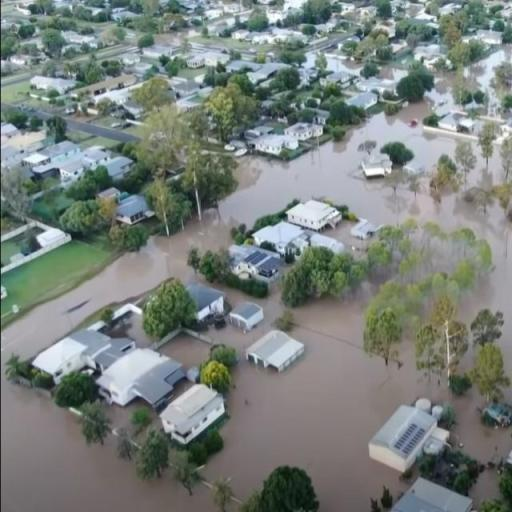flood: (2, 104, 512, 377), (202, 285, 512, 512), (2, 381, 215, 512), (465, 44, 512, 90), (357, 64, 409, 92), (472, 472, 500, 505), (327, 56, 360, 76), (436, 72, 454, 93), (305, 53, 313, 67)
house: (366, 395, 450, 474), (98, 346, 187, 412), (160, 381, 224, 447), (388, 471, 474, 511), (246, 330, 304, 379), (33, 335, 86, 382), (232, 242, 282, 287), (288, 198, 345, 236), (186, 289, 230, 330), (227, 298, 263, 336), (360, 149, 392, 180), (120, 197, 148, 224), (256, 133, 285, 155), (290, 122, 324, 140), (106, 156, 132, 178), (349, 91, 379, 110), (438, 113, 464, 132), (60, 158, 84, 178), (23, 153, 48, 168), (54, 78, 74, 92), (188, 56, 204, 69), (233, 29, 249, 40)
